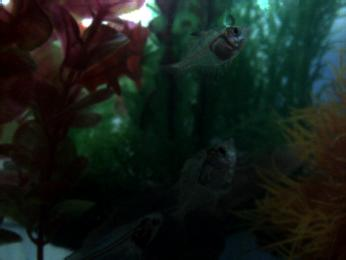X-ray fish: (168, 135, 237, 227), (167, 24, 252, 81)
glassfish: (66, 211, 166, 260)
